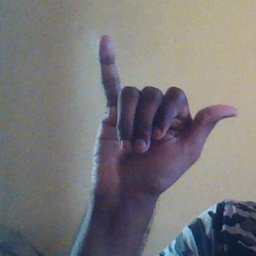J: (94, 33, 239, 189)
